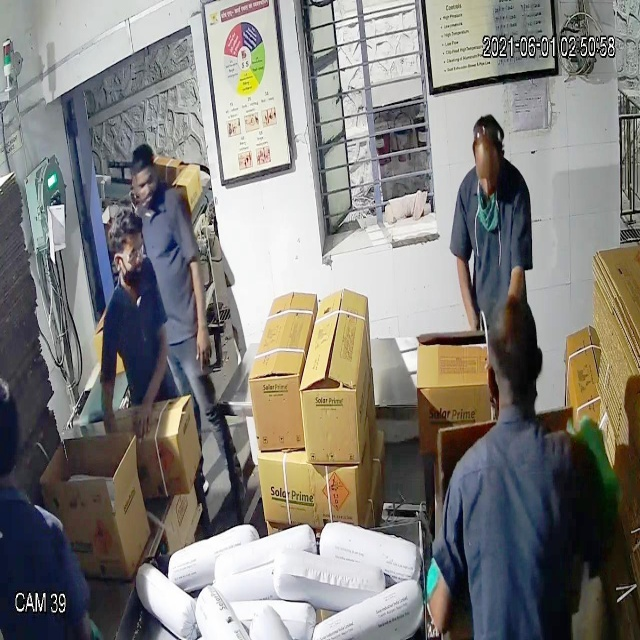Gafas: (110, 236, 148, 276)
